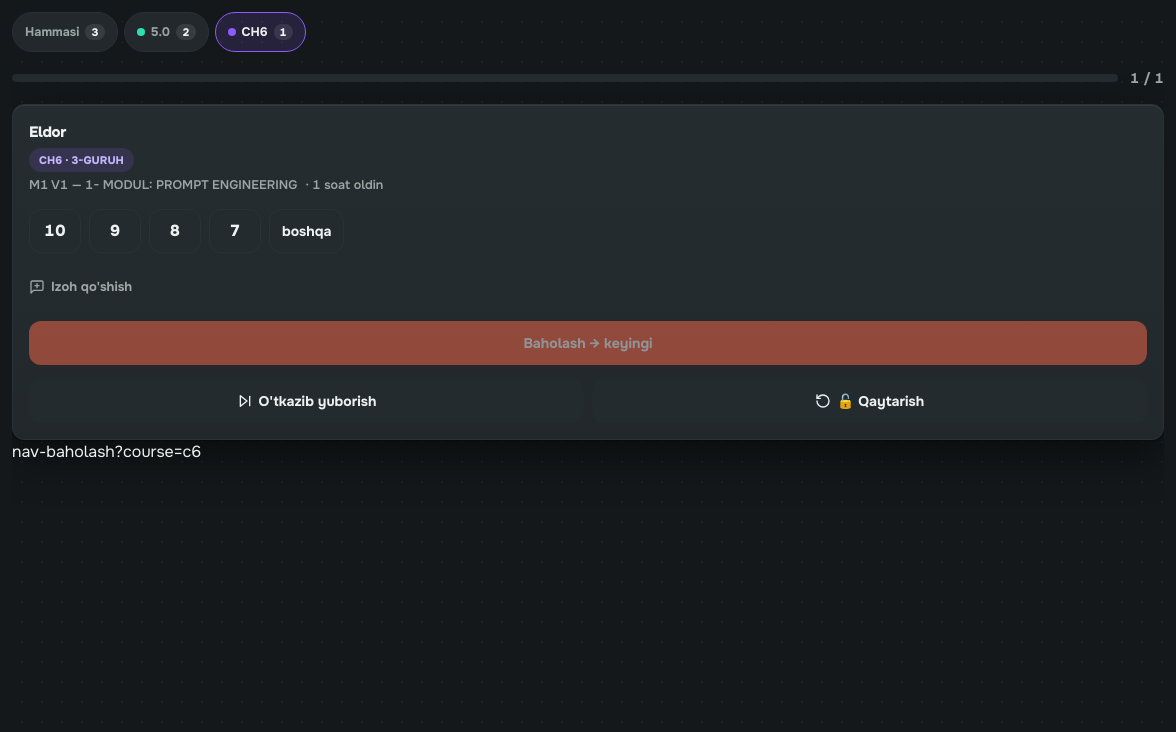
Test: TeacherGrade: the inputs never move to another student › the nav tab tapped while a grade is being written: the grade lands on its student, the new card starts clean
expect the text "Eldor" is shown: met, box [29,122,66,142]
What coordinates should you click on to do the following:
click the button "9"
I would click on:
 (115, 231)
Its box is [89,209,141,253].
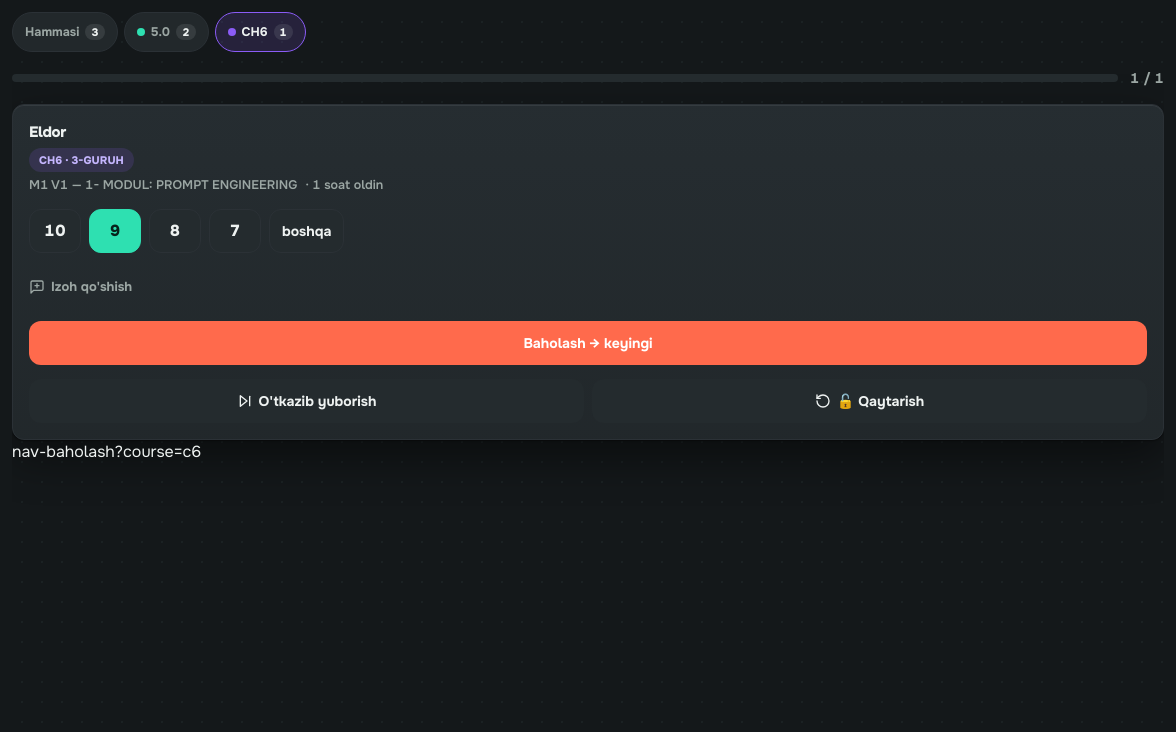
What coordinates should you click on to do the following:
click the button "Baholash → keyingi"
I would click on:
 (588, 343)
Its box is [29,321,1147,365].
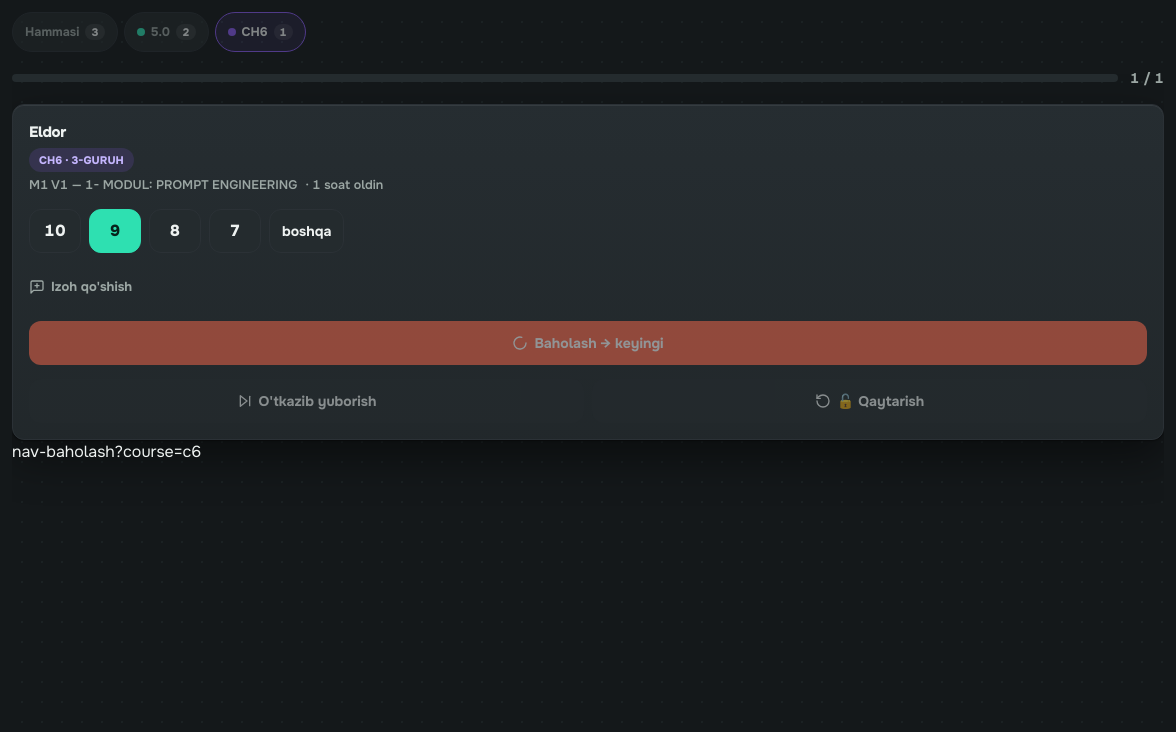
What coordinates should you click on to do the following:
click the link "nav-baholash"
I would click on:
 (63, 451)
Its box is [12,441,115,462].
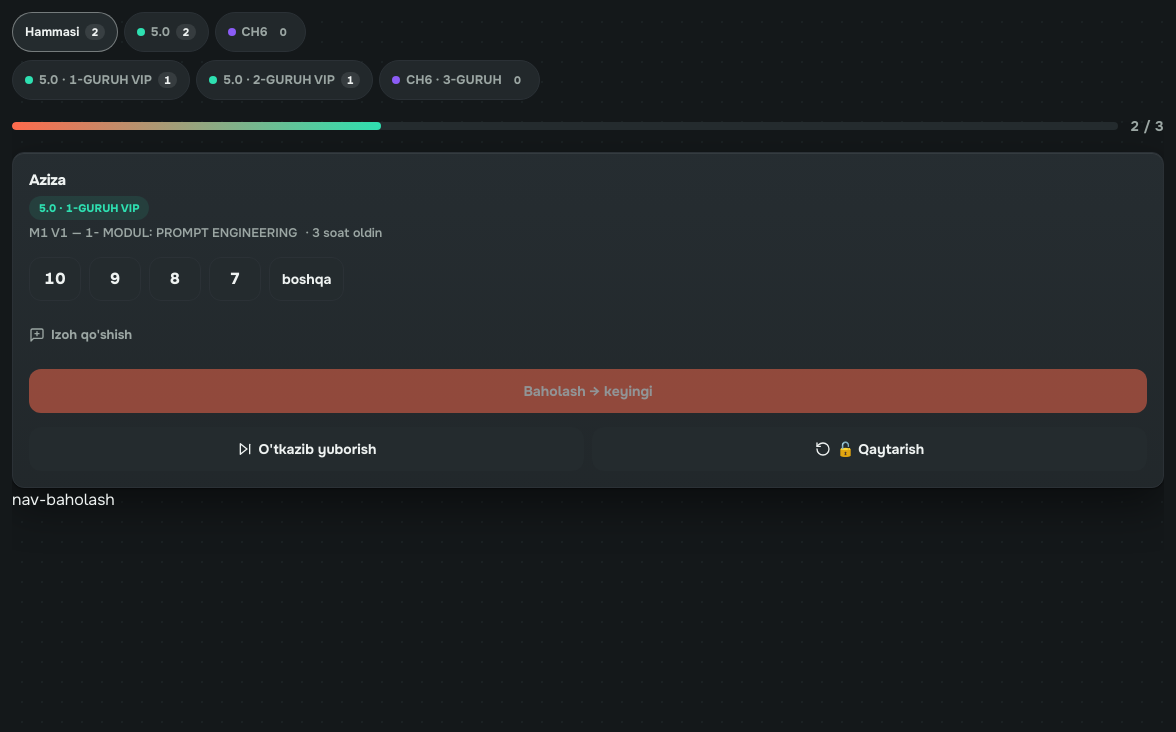
expect the button "Baholash → keyingi" is disabled: met, box [29,369,1147,413]
expect the text "Aziza" is shown: met, box [29,170,66,190]
